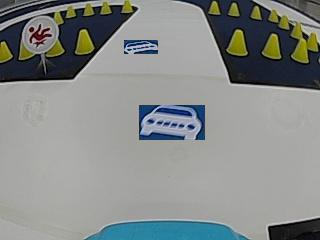cone: (226, 28, 248, 57), (261, 32, 282, 60), (74, 28, 94, 55), (291, 39, 308, 63), (0, 40, 12, 63), (18, 41, 32, 60), (307, 31, 317, 51), (208, 0, 220, 15), (228, 1, 239, 17), (250, 4, 261, 20), (100, 1, 112, 15), (278, 13, 288, 29), (83, 2, 94, 16), (65, 4, 76, 18), (121, 0, 132, 13), (53, 11, 64, 24), (268, 8, 278, 22)
tumble: (25, 18, 56, 49)
